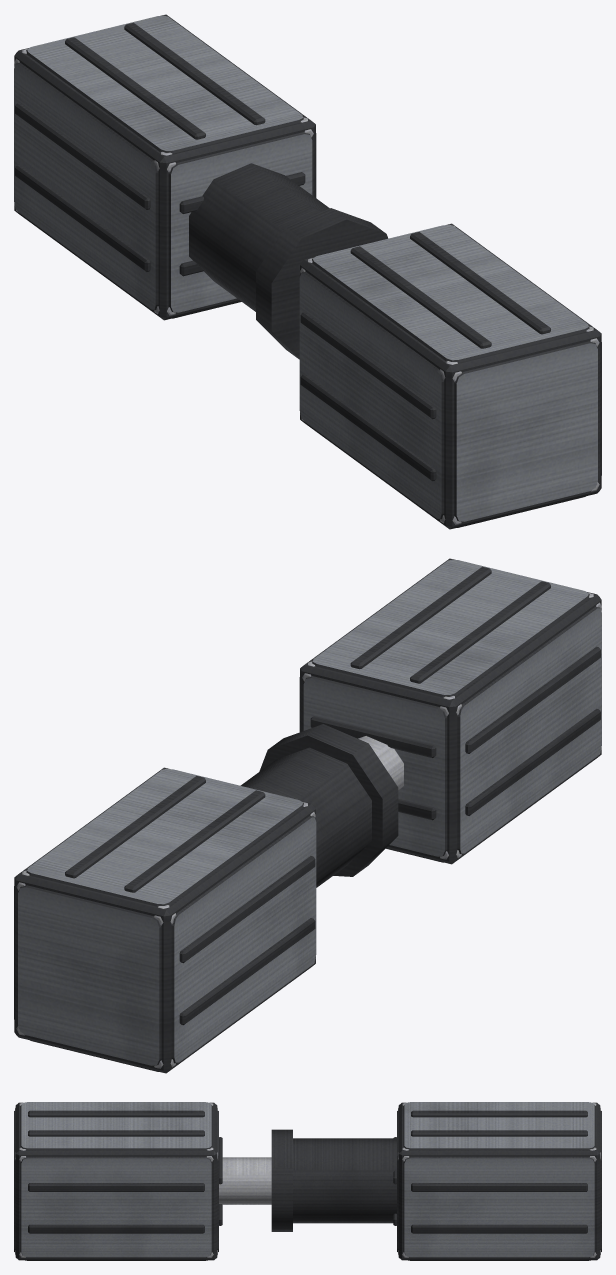
File: R4C_ROD_SHORT.glb
3 renders of one model, top to bottom at view 1: azimuth 30°, elevation 25°; view 2: azimuth 150°, elevation 25°; view 3: azimuth 270°, elevation 25°, orthographic. The views are drawn at different scales.
Visible parts, largest first — view 1: R4C_ROD_SHORT; view 2: R4C_ROD_SHORT; view 3: R4C_ROD_SHORT.
Boxes of the visible parts, x1,y1,x2,y2 form: R4C_ROD_SHORT: [14, 14, 601, 529]; R4C_ROD_SHORT: [14, 558, 601, 1073]; R4C_ROD_SHORT: [14, 1102, 601, 1260].
Bounding box in the file's own units: 0.24 × 0.233 × 1.07.
Materials: 4 (4 with a texture image).
